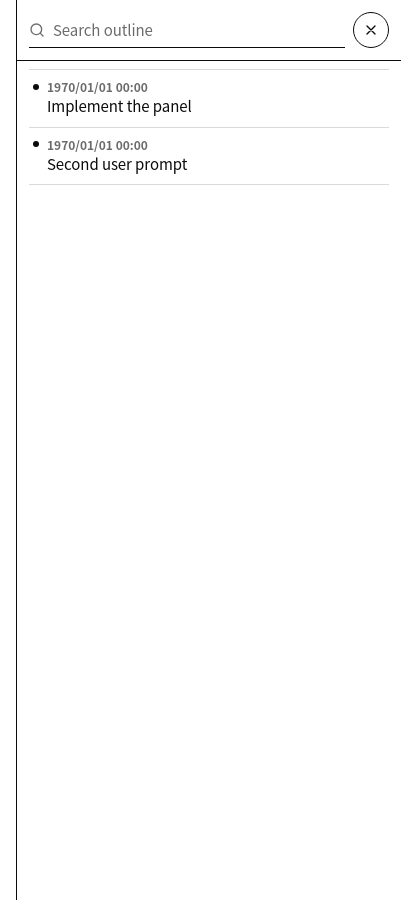
it: ConversationOutlinePanel › shows a search-specific empty state
In the search field named "Search outline items": (187, 30) [29, 12, 345, 48], type "missing"
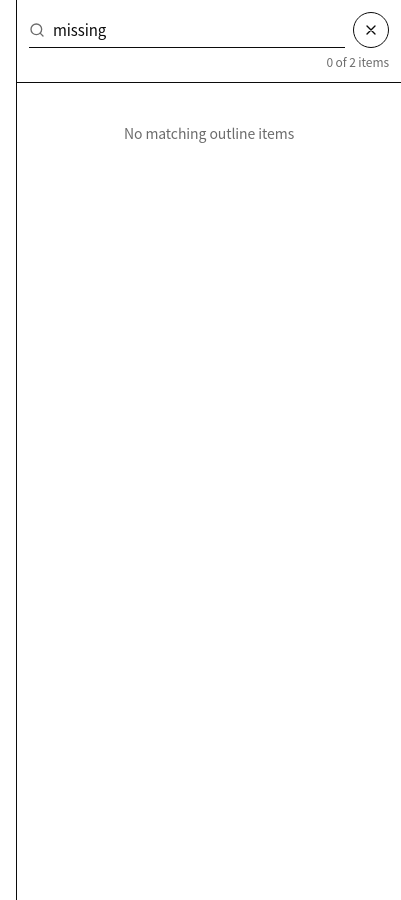
Expected: the text "No matching outline items" is shown, [124, 123, 294, 143]
